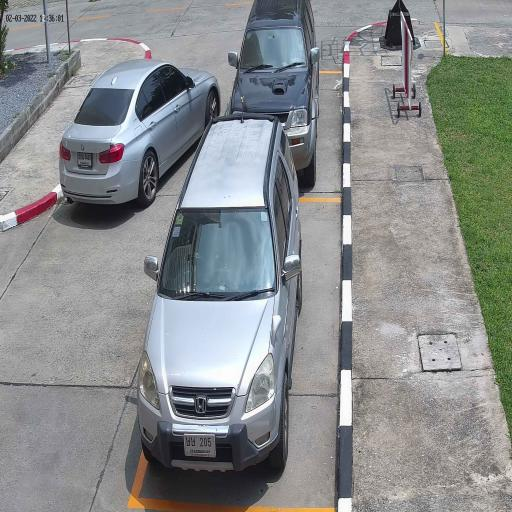car: (136, 112, 302, 479), (58, 58, 222, 208), (228, 0, 319, 187)
